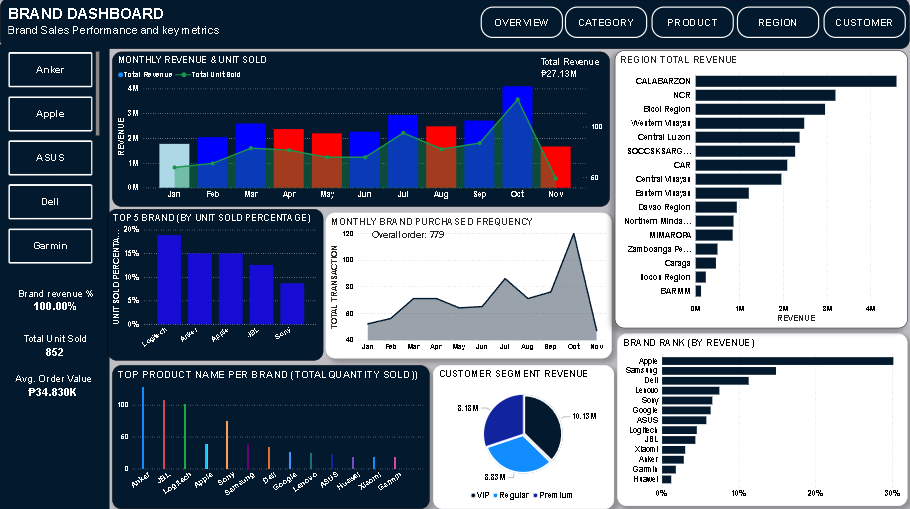

Layout of this report page (visuals, bound fields, positions):
{"tool":"powerbi","page":{"name":"BRAND","canvas":[1920,1080],"ordinal":2},"visuals":[{"type":"group","id":"g1","title":"Group 1","box":[0,0,1920,107],"z":0},{"type":"shape","box":[0,0,1920,107],"z":0,"group":"g1"},{"type":"actionButton","box":[1374.2,19.1,174.1,66.8],"z":1000,"group":"g1"},{"type":"shape","box":[0,97.1,231.4,982.9],"z":1000},{"type":"actionButton","box":[1555.5,19.1,174.1,66.8],"z":2000,"group":"g1"},{"type":"advancedSlicerVisual","fields":{"Values":["public product.brand"]},"box":[12.1,107,202.8,470],"z":2000},{"type":"actionButton","box":[1736.9,19.1,174.1,66.8],"z":3000,"group":"g1"},{"type":"cardVisual","fields":{"Data":["public customer.Brand revenue %"]},"box":[4.8,589.3,226.7,97.8],"z":3000},{"type":"actionButton","box":[1192.9,19.1,174.1,66.8],"z":4000,"group":"g1"},{"type":"cardVisual","fields":{"Data":["public order_items.Total Quantity"]},"box":[6.1,684.6,222.1,101],"z":4000},{"type":"textbox","box":[11.9,9.5,536.8,97.5],"z":5000,"group":"g1"},{"type":"group","id":"g2","title":"Group 2","box":[236.3,103,1064.2,337.2],"z":5000},{"type":"actionButton","box":[1014,19.1,174.1,66.8],"z":6000,"group":"g1"},{"type":"lineChart","title":"MONTHLY BRAND PURCHASED FREQUENCY","fields":{"Category":["public order_receipts.Month Name"],"Y":["public customer.Total Completed Transaction"]},"box":[687.1,453.3,603.6,307.8],"z":6000},{"type":"clusteredColumnChart","title":"TOP PRODUCT NAME PER BRAND (TOTALQUANTITY SOLD))","fields":{"Series":["public product.product_name"],"Category":["public product.brand"],"Y":["public order_items.Total Unit Sold"]},"box":[236.2,775.4,670,303],"z":7000},{"type":"lineClusteredColumnComboChart","title":"MONTHLY REVENUE & UNIT SOLD","fields":{"Category":["public order_receipts.Month Name"],"Y":["public order_items.Total Revenue"],"Y2":["public order_items.Total Unit Sold"]},"box":[236.3,113.1,1050.1,327.1],"z":8000,"group":"g2"},{"type":"pieChart","title":"CUSTOMER SEGMENT REVENUE","fields":{"Category":["public customer.customer_segment"],"Y":["public order_items.Total Revenue"]},"box":[913.8,775.4,381.7,303],"z":8000},{"type":"clusteredBarChart","title":"BRAND RANK (BY REVENUE)","fields":{"Category":["public product.brand"],"Y":["public customer.Brand revenue %"]},"box":[1302.8,708.2,612,364.3],"z":9000},{"type":"clusteredBarChart","title":"REGION TOTAL REVENUE","fields":{"Category":["public customer.region"],"Y":["public order_items.Total Revenue"]},"box":[1297,110.8,617.9,585.8],"z":10000},{"type":"clusteredColumnChart","title":"TOP 5 BRAND (BY UNIT SOLD PERCENTAGE)","fields":{"Category":["public product.brand"],"Y":["public product.product sold %"]},"box":[226.7,446.1,455.7,319.7],"z":11000},{"type":"cardVisual","fields":{"Data":["public customer.Avg. Order Value"]},"box":[0,771.4,226.2,92.9],"z":12000},{"type":"cardVisual","title":"Overall order","fields":{"Data":["public customer.Purchased count"]},"box":[878.4,474.6,92.9,50.5],"z":13000},{"type":"textbox","box":[779.5,481.7,141.3,36.3],"z":14000},{"type":"cardVisual","fields":{"Data":["public order_items.Total Revenue"]},"box":[1112.7,103,187.8,92.9],"z":15001,"group":"g2"}]}

Visuals, with their boxes in screenshot pixels (x1, y1, x2, y2), scaled from the page's 1920x1080 canvas onto the 910x509 screenshot:
"Group 1" group: x1=0 y1=0 x2=909 y2=50
shape: x1=0 y1=0 x2=909 y2=50
actionButton: x1=651 y1=9 x2=734 y2=40
shape: x1=0 y1=46 x2=110 y2=508
actionButton: x1=737 y1=9 x2=820 y2=40
advancedSlicerVisual - public product.brand: x1=6 y1=50 x2=102 y2=272
actionButton: x1=823 y1=9 x2=906 y2=40
cardVisual - public customer.Brand revenue %: x1=2 y1=278 x2=110 y2=324
actionButton: x1=565 y1=9 x2=648 y2=40
cardVisual - public order_items.Total Quantity: x1=3 y1=323 x2=108 y2=370
textbox: x1=6 y1=4 x2=260 y2=50
"Group 2" group: x1=112 y1=49 x2=616 y2=207
actionButton: x1=481 y1=9 x2=563 y2=40
"MONTHLY BRAND PURCHASED FREQUENCY" lineChart: x1=326 y1=214 x2=612 y2=359
"TOP PRODUCT NAME PER BRAND (TOTALQUANTITY SOLD))" clusteredColumnChart: x1=112 y1=365 x2=430 y2=508
"MONTHLY REVENUE & UNIT SOLD" lineClusteredColumnComboChart: x1=112 y1=53 x2=610 y2=207
"CUSTOMER SEGMENT REVENUE" pieChart: x1=433 y1=365 x2=614 y2=508
"BRAND RANK (BY REVENUE)" clusteredBarChart: x1=617 y1=334 x2=908 y2=505
"REGION TOTAL REVENUE" clusteredBarChart: x1=615 y1=52 x2=908 y2=328
"TOP 5 BRAND (BY UNIT SOLD PERCENTAGE)" clusteredColumnChart: x1=107 y1=210 x2=323 y2=361
cardVisual - public customer.Avg. Order Value: x1=0 y1=364 x2=107 y2=407
"Overall order" cardVisual: x1=416 y1=224 x2=460 y2=247
textbox: x1=369 y1=227 x2=436 y2=244
cardVisual - public order_items.Total Revenue: x1=527 y1=49 x2=616 y2=92
